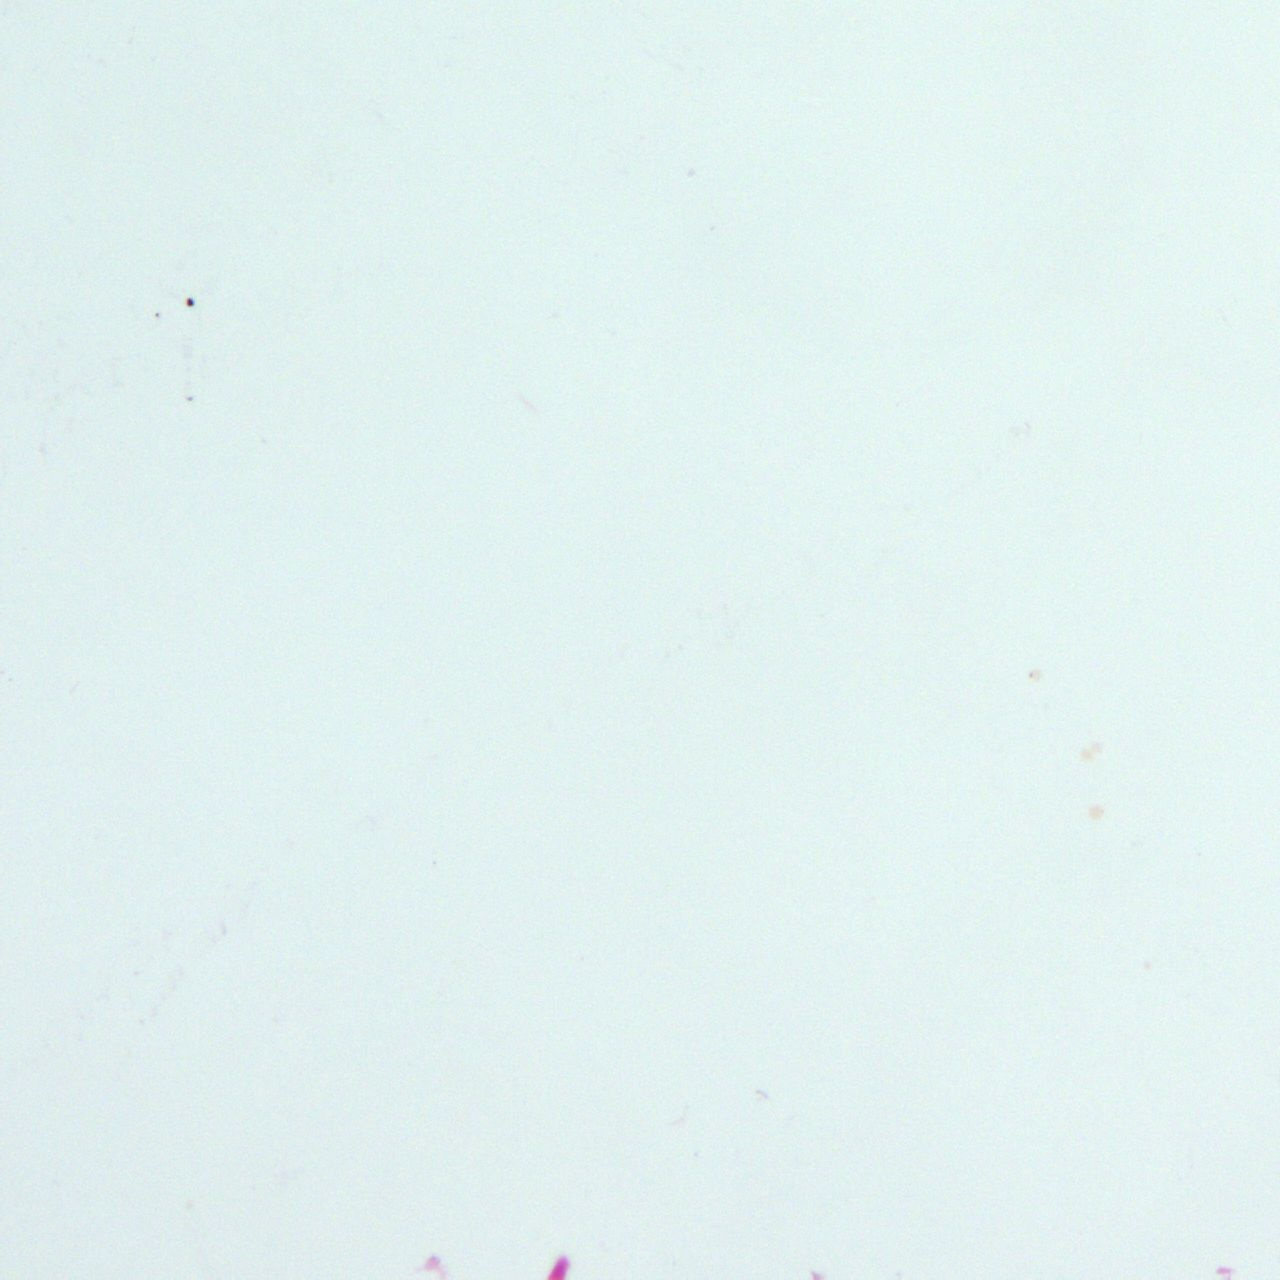dust: (184, 297, 195, 307)
